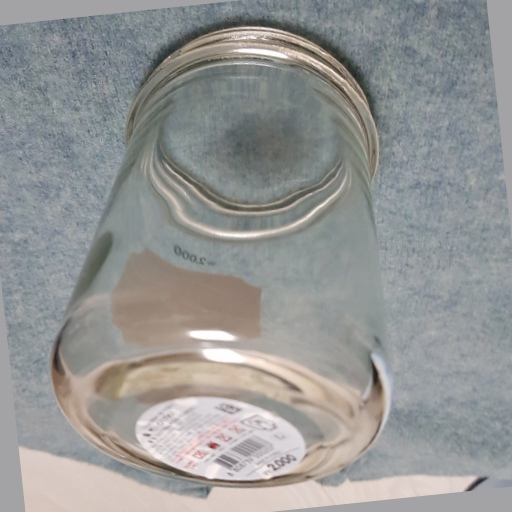Glass_5: (51, 28, 395, 487)
